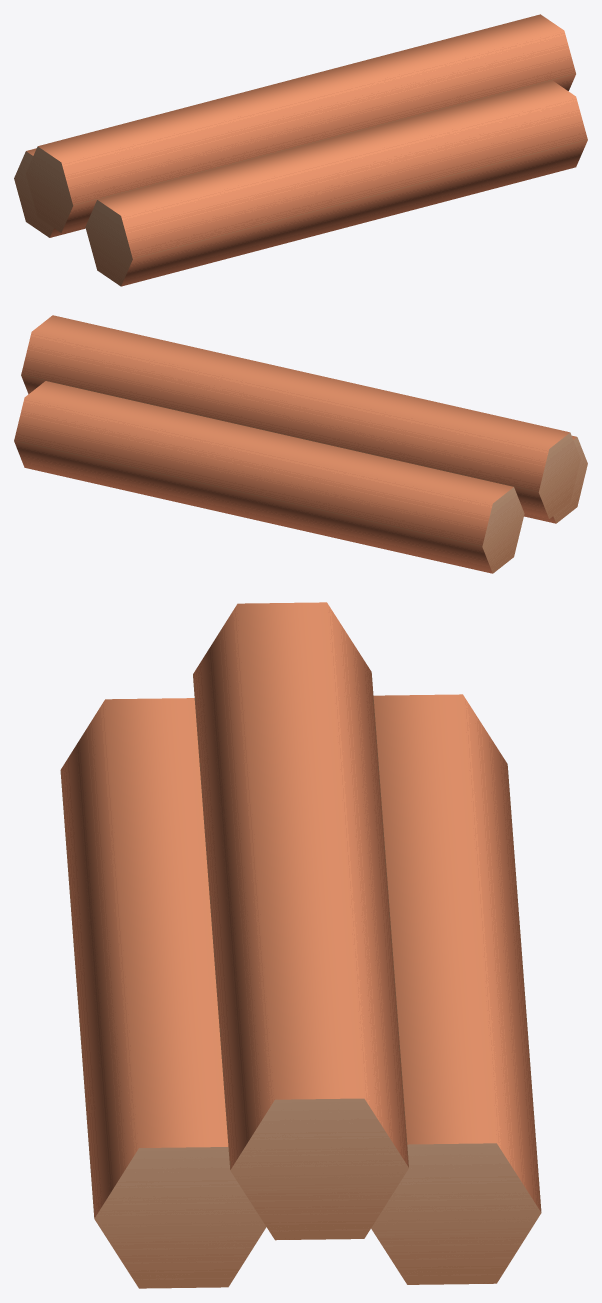
The model's file is cargo_lev2.glb.
3 views of the same model, one above another, from view 1: azimuth 30°, elevation 25°; view 2: azimuth 150°, elevation 25°; view 3: azimuth 270°, elevation 25° (orthographic). The views are drawn at different scales.
Visible parts, largest first — view 1: cargo_lev2; view 2: cargo_lev2; view 3: cargo_lev2.
Part boxes in pixels (x1,y1,x2,y2): cargo_lev2: (14, 14, 587, 286); cargo_lev2: (14, 315, 587, 573); cargo_lev2: (60, 602, 541, 1288).
Size of the model in its own units: 2.47 by 0.4862 by 1.01.
Materials: 1 (1 with a texture image).
